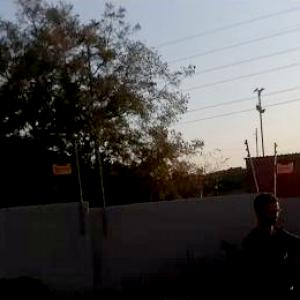follow: (242, 186, 300, 299)
